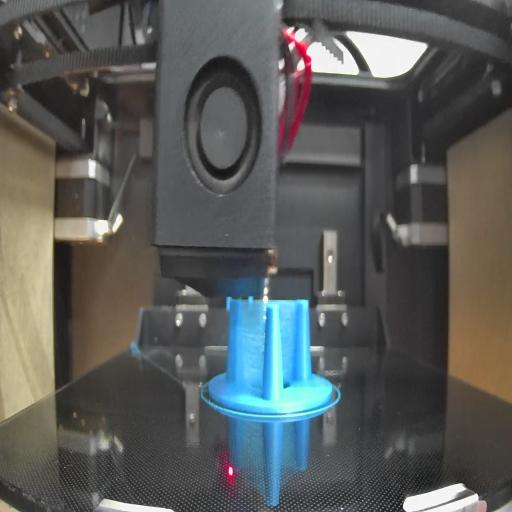stringing: (236, 301, 264, 396), (281, 303, 299, 395)
